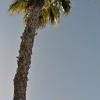Palm tree: (8, 2, 57, 100)
